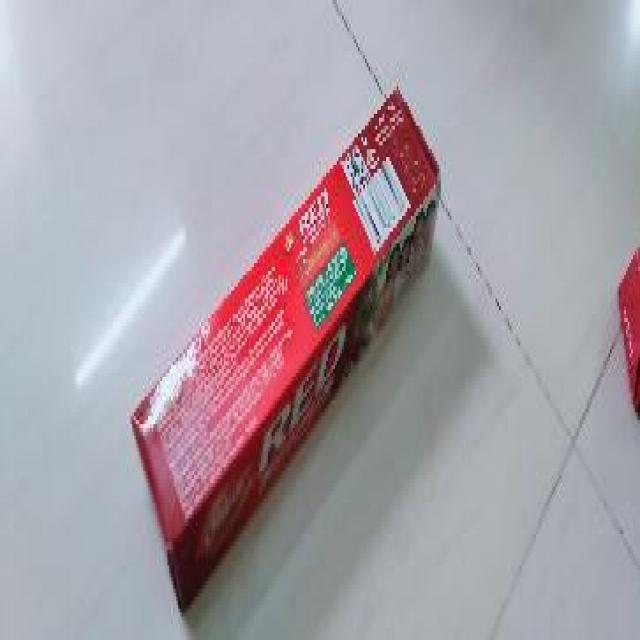tooth paste: (100, 84, 480, 604)
